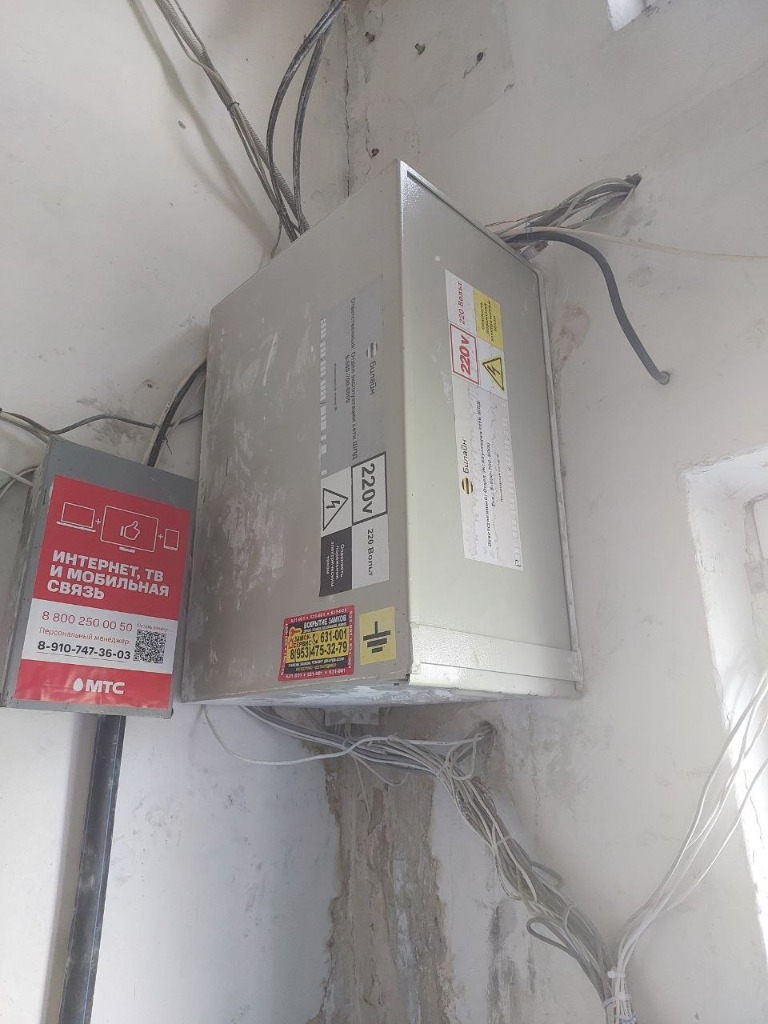sv-5: (179, 149, 591, 717)
